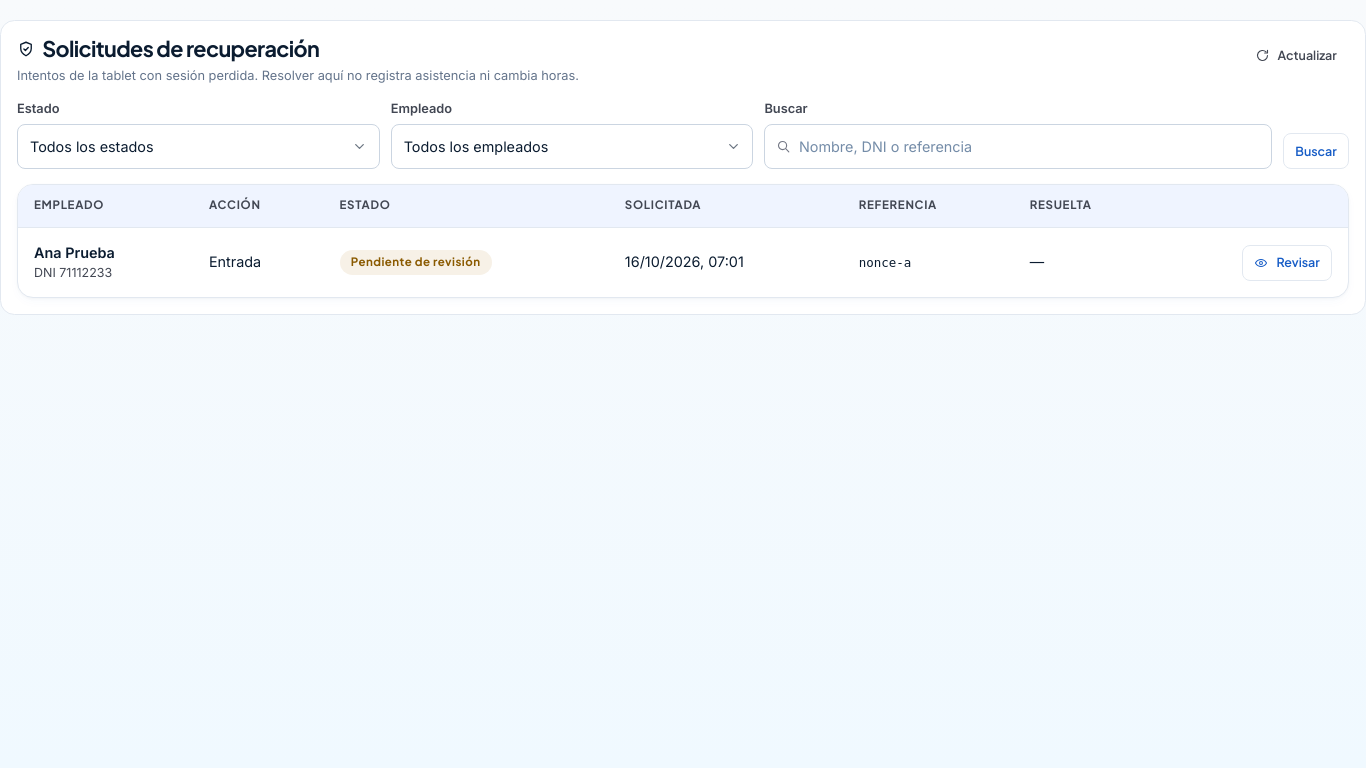
Test: panel de solicitudes de recuperación › explica el estado real EMPTY sin confundirlo con una confirmación
Expected: the dropdown named "Filtrar solicitudes por empleado" is shown, [391, 124, 753, 169]
Expected: the dropdown named "Filtrar solicitudes por estado" is shown, [17, 124, 380, 169]
Click the button with test id "recovery-open": click(1287, 263) [1242, 245, 1332, 281]
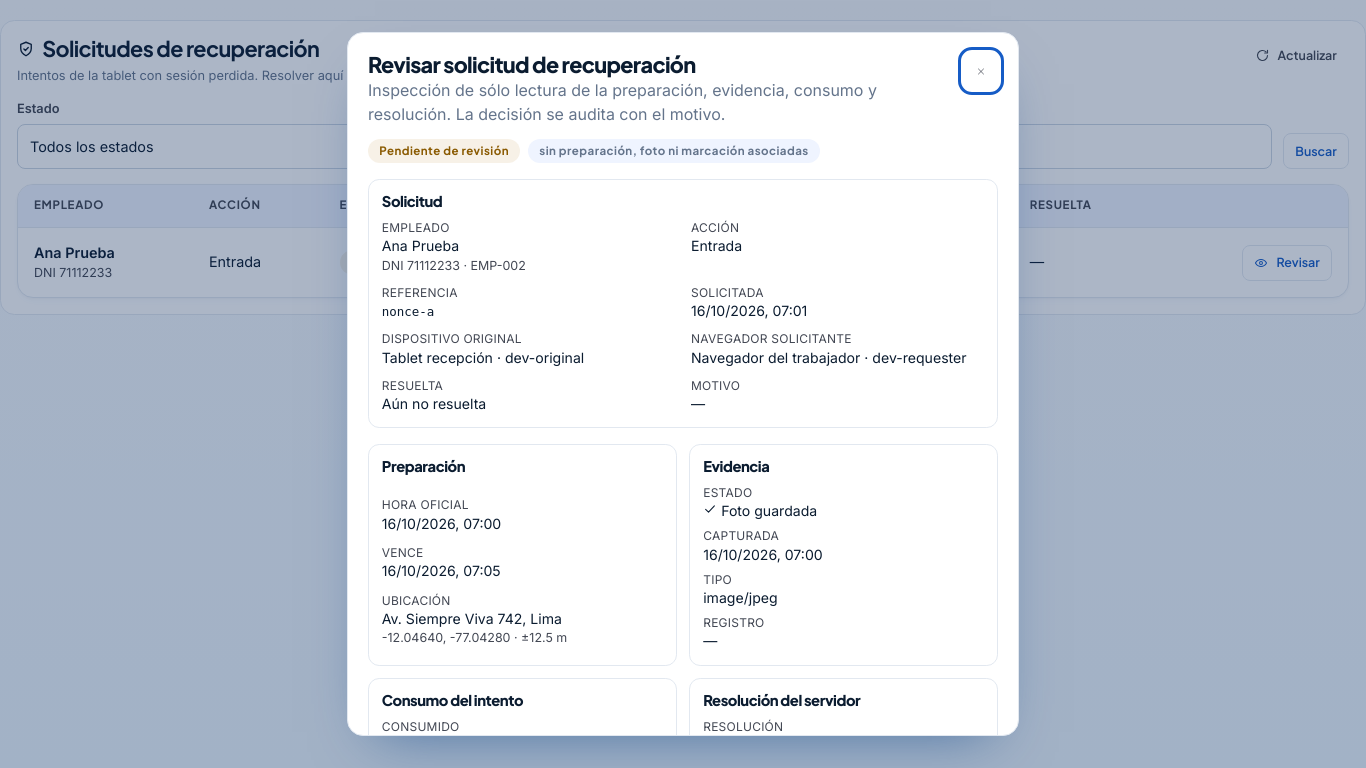
Expected: the text "sin preparación, foto ni marcación asociadas" is shown, [528, 139, 820, 163]
